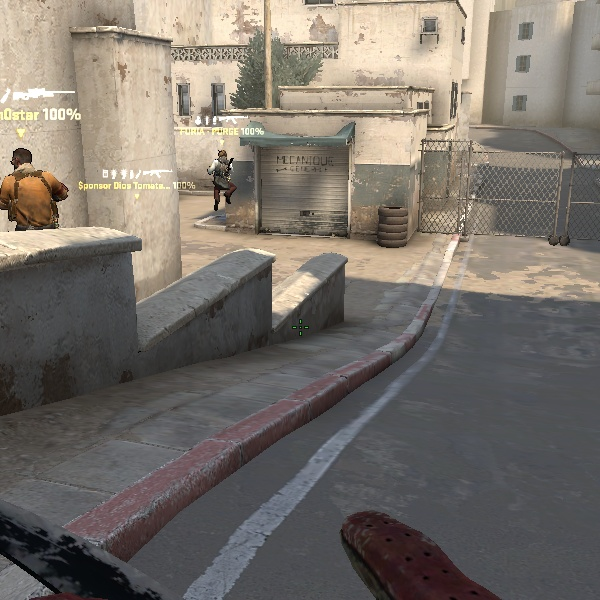t_body: (1, 138, 75, 229), (199, 145, 246, 212)
t_head: (5, 141, 39, 179), (214, 146, 232, 165)
